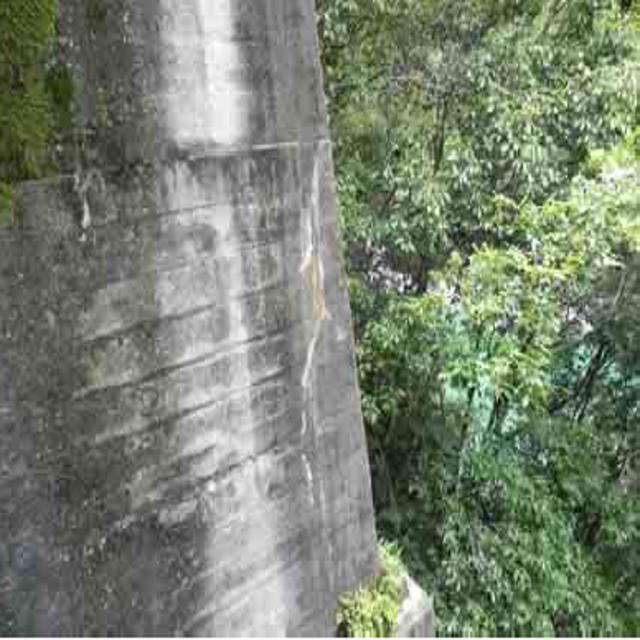freelime: (180, 20, 279, 640)
